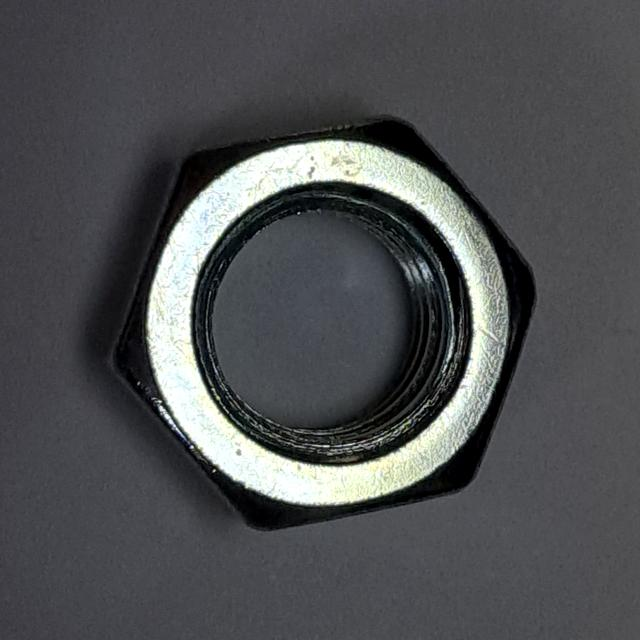Excellent: (87, 98, 553, 551)
